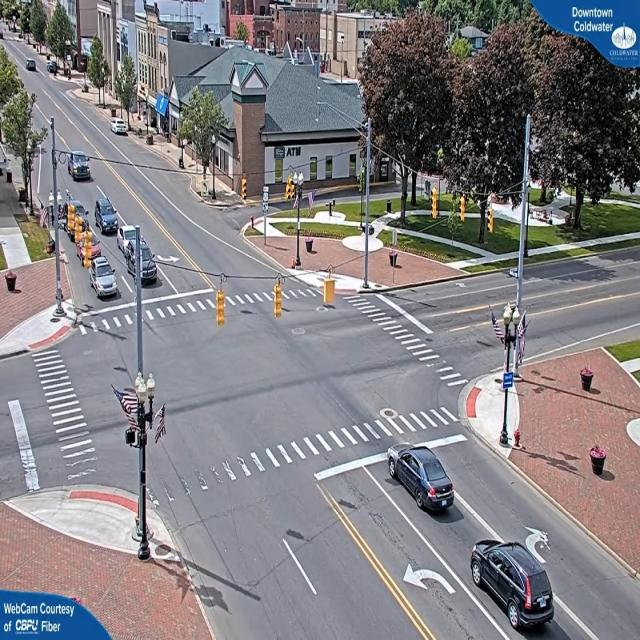car: (472, 539, 556, 634), (387, 443, 458, 514), (403, 562, 456, 596), (91, 259, 120, 299), (96, 197, 124, 237), (70, 151, 93, 182), (112, 119, 128, 138)
